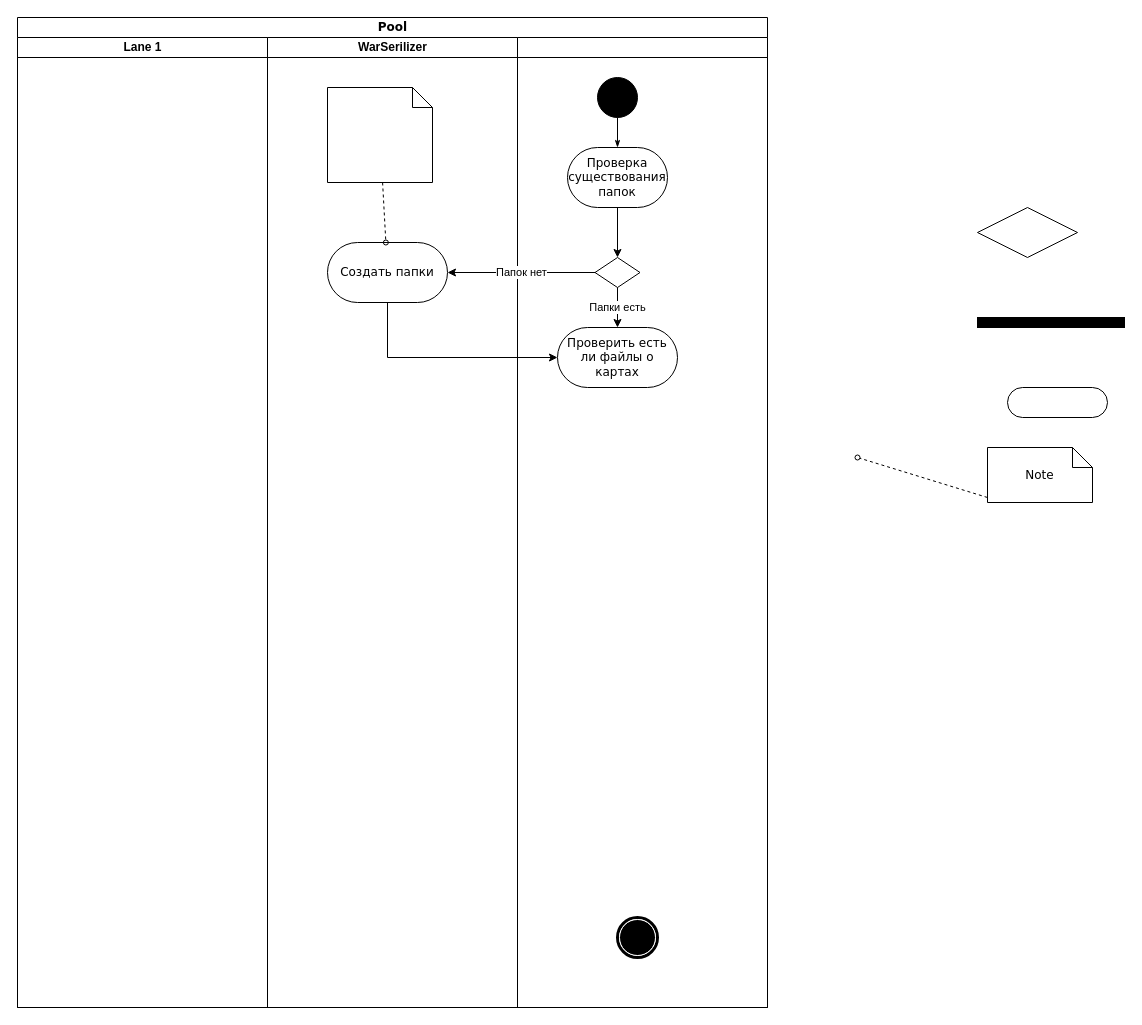
Image size: 1142x1025. Some labels were removed from this diagram. The shapes that lost their labels are listed below. From the top down, each one's box as (x1, y1, x2, y2) in pixels, then its label:
(326, 86, 432, 182): Папки создаются для всех имеющихся шардов
(1006, 386, 1108, 418): Action
(516, 36, 768, 1008): MainClass
